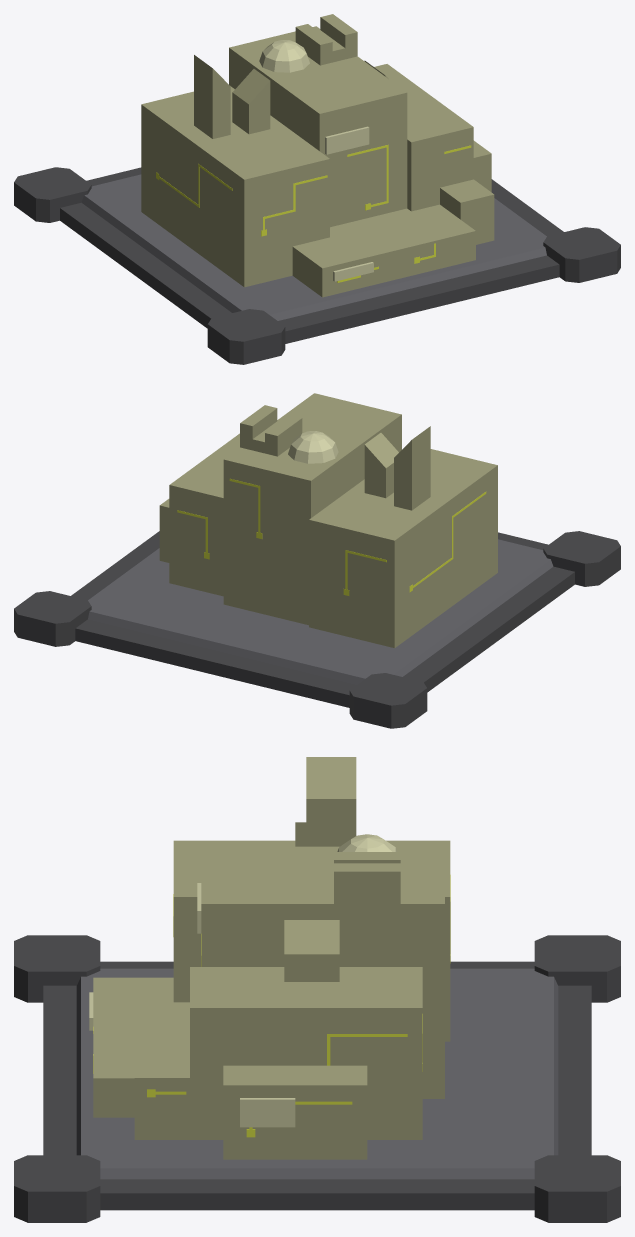
Rendered from archonexus_core.obj.
3 views of the same model, one above another, from view 1: azimuth 30°, elevation 25°; view 2: azimuth 150°, elevation 25°; view 3: azimuth 270°, elevation 25° (orthographic). The views are drawn at different scales.
Visible parts, largest first — view 1: archonexus_core_7, archonexus_core_6, archonexus_core_0, archonexus_core_1, archonexus_core_10, archonexus_core_8, archonexus_core_2, archonexus_core_4, archonexus_core_3, archonexus_core_12, archonexus_core_11, archonexus_core_13 (+5 smaller); view 2: archonexus_core_7, archonexus_core_1, archonexus_core_6, archonexus_core_0, archonexus_core_8, archonexus_core_3, archonexus_core_5, archonexus_core_2, archonexus_core_12, archonexus_core_13, archonexus_core_18, archonexus_core_15 (+2 smaller); view 3: archonexus_core_1, archonexus_core_8, archonexus_core_0, archonexus_core_6, archonexus_core_9, archonexus_core_10, archonexus_core_7, archonexus_core_4, archonexus_core_5, archonexus_core_2, archonexus_core_3, archonexus_core_11 (+7 smaller).
Part boxes in pixels (x1,y1,x2,y2): archonexus_core_7: [141, 86, 329, 287]; archonexus_core_6: [229, 26, 407, 227]; archonexus_core_0: [60, 167, 563, 343]; archonexus_core_1: [81, 174, 546, 320]; archonexus_core_10: [292, 204, 475, 297]; archonexus_core_8: [374, 64, 473, 211]; archonexus_core_2: [207, 309, 285, 364]; archonexus_core_4: [543, 227, 620, 282]; archonexus_core_3: [14, 167, 91, 222]; archonexus_core_12: [194, 55, 230, 138]; archonexus_core_11: [440, 179, 494, 244]; archonexus_core_13: [232, 69, 270, 134]; archonexus_core_7: [309, 449, 497, 648]; archonexus_core_1: [88, 539, 553, 684]; archonexus_core_6: [223, 393, 401, 625]; archonexus_core_0: [71, 531, 574, 707]; archonexus_core_8: [169, 433, 239, 596]; archonexus_core_3: [349, 673, 427, 728]; archonexus_core_5: [14, 591, 91, 646]; archonexus_core_2: [543, 531, 620, 586]; archonexus_core_12: [394, 426, 430, 510]; archonexus_core_13: [364, 433, 398, 498]; archonexus_core_18: [288, 431, 338, 463]; archonexus_core_15: [265, 415, 302, 456]; archonexus_core_1: [76, 968, 558, 1179]; archonexus_core_8: [190, 967, 422, 1139]; archonexus_core_0: [43, 961, 591, 1210]; archonexus_core_6: [201, 846, 444, 1098]; archonexus_core_9: [223, 1065, 367, 1159]; archonexus_core_10: [93, 977, 189, 1117]; archonexus_core_7: [173, 840, 450, 1041]; archonexus_core_4: [14, 1155, 100, 1222]; archonexus_core_5: [534, 1155, 620, 1222]; archonexus_core_2: [14, 935, 100, 1002]; archonexus_core_3: [534, 935, 620, 1002]; archonexus_core_11: [134, 1056, 189, 1139].
Size of the model in its own units: 10.96 by 5.3 by 10.96.
